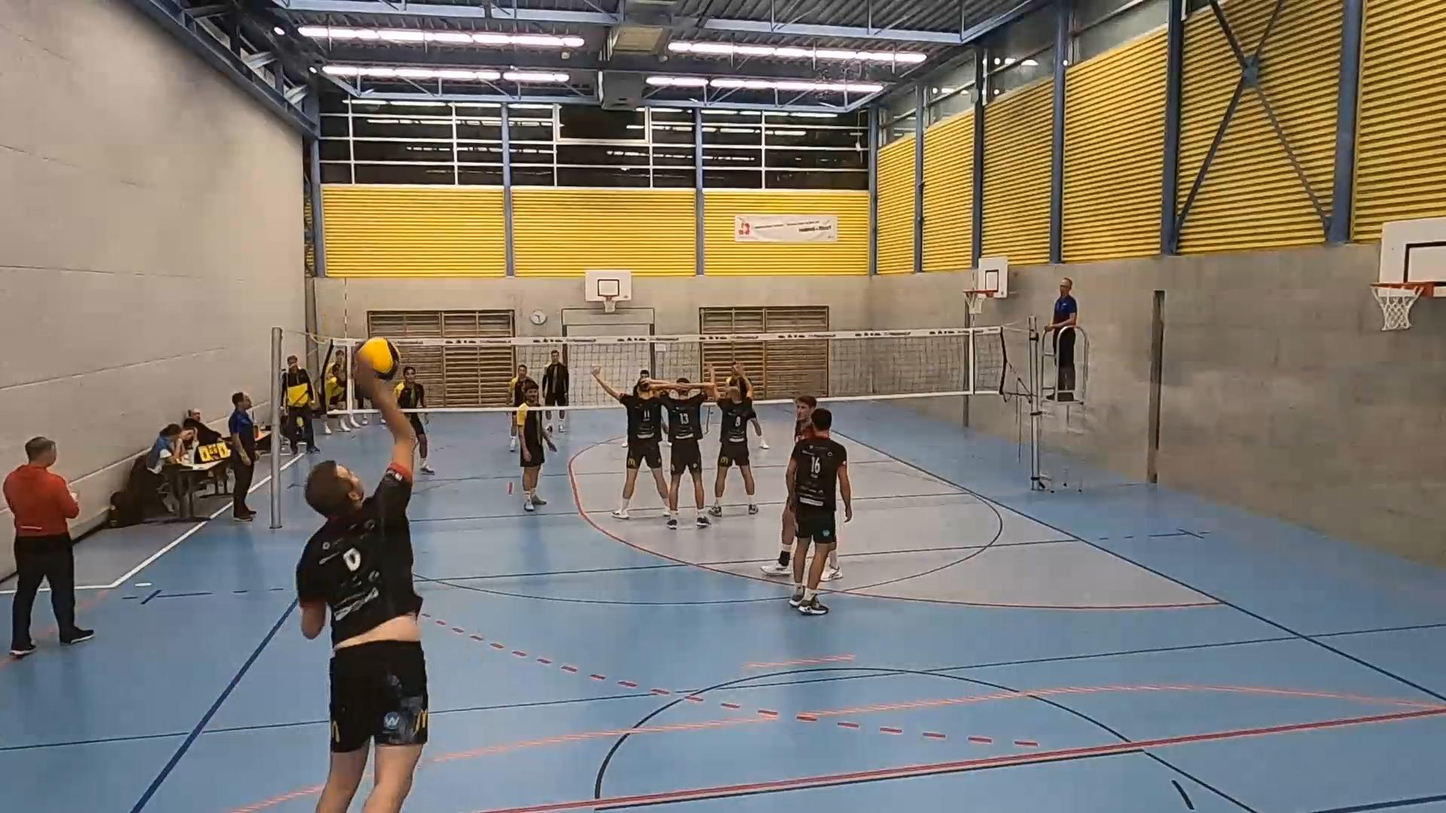battuta: (293, 332, 432, 813)
